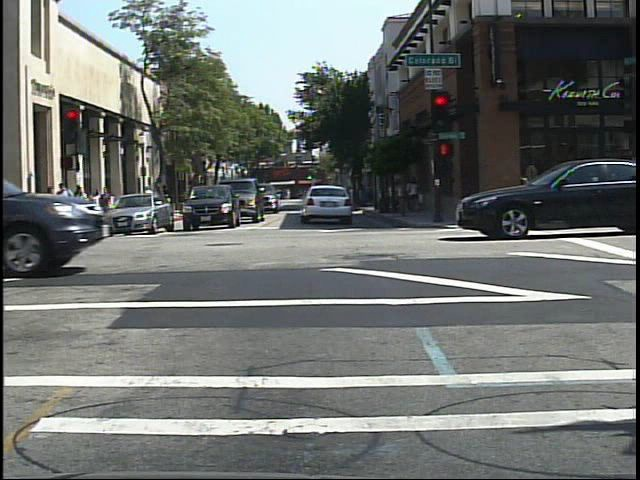person: (156, 180, 174, 215), (140, 183, 158, 213), (91, 189, 102, 227)
